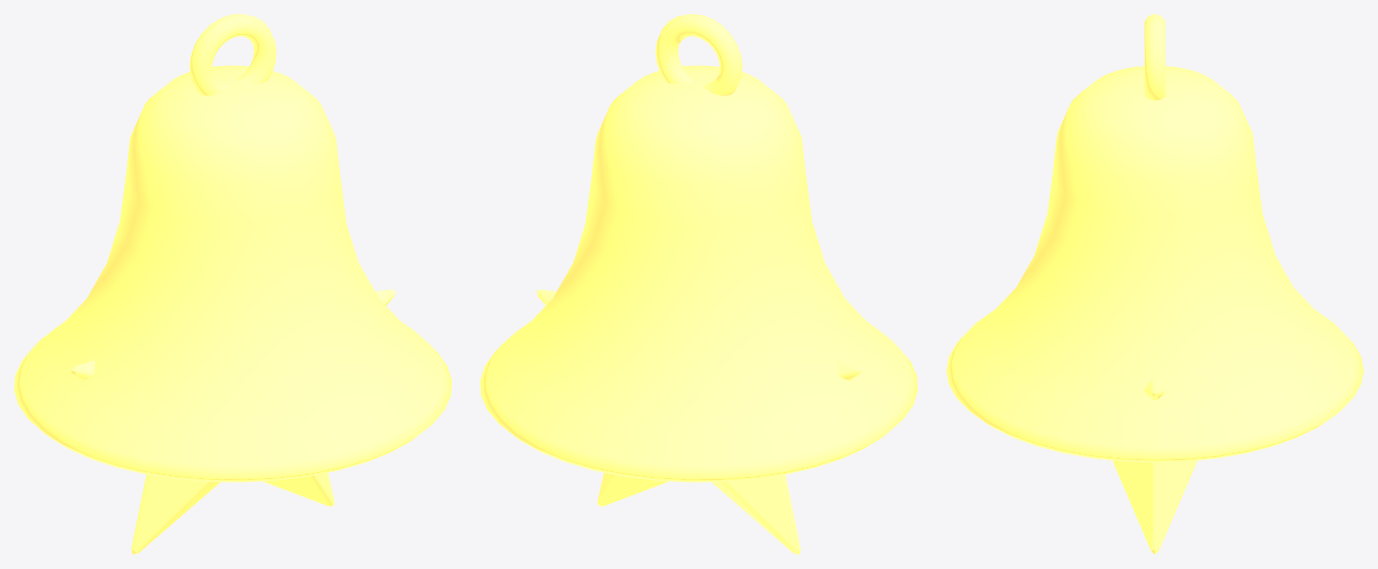
The model's file is AdventMeshes.fbx.
3 renders of one model, left to right at view 1: azimuth 30°, elevation 25°; view 2: azimuth 150°, elevation 25°; view 3: azimuth 270°, elevation 25°, orthographic. The views are drawn at different scales.
Visible parts, largest first — view 1: FX_Bell, BallStar; view 2: FX_Bell, BallStar; view 3: FX_Bell, BallStar.
Boxes of the visible parts, x1,y1,x2,y2 form: FX_Bell: (14,14,451,482); BallStar: (70,289,395,554); FX_Bell: (480,14,917,482); BallStar: (536,289,861,554); FX_Bell: (946,14,1363,462); BallStar: (1113,378,1196,554).
Size of the model in its own units: 212 by 275 by 212.
